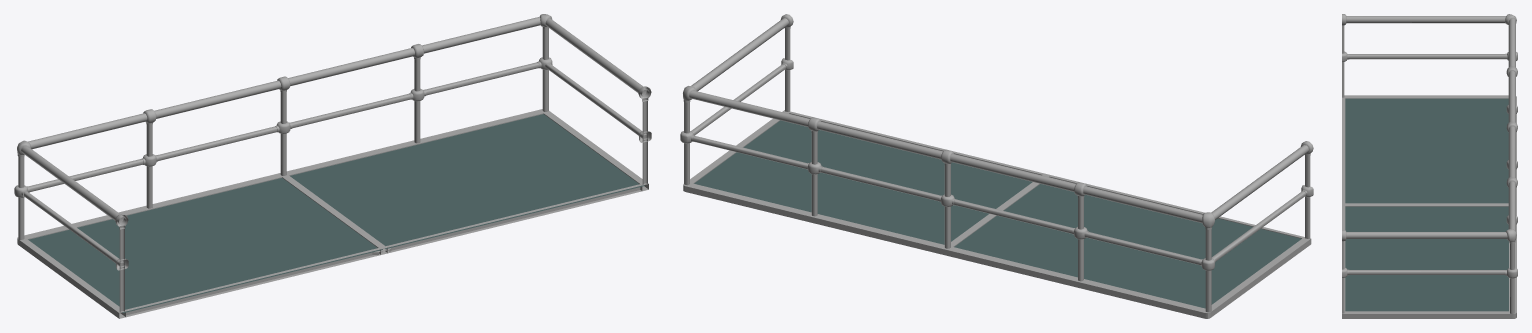
File: L_RailWalk_EndClosed.fbx
The picture shows the model from 3 angles, left to right: view 1: azimuth 30°, elevation 25°; view 2: azimuth 150°, elevation 25°; view 3: azimuth 270°, elevation 25°; orthographic projection. The views are drawn at different scales.
Visible parts, largest first — view 1: Large_RailWalk_EndClosed; view 2: Large_RailWalk_EndClosed; view 3: Large_RailWalk_EndClosed.
Boxes of the visible parts, bbox=[...] form: Large_RailWalk_EndClosed: bbox=[14, 14, 651, 318]; Large_RailWalk_EndClosed: bbox=[680, 14, 1313, 318]; Large_RailWalk_EndClosed: bbox=[1342, 14, 1517, 318].
Bounding box in the file's own units: 4.61 × 0.8457 × 1.55.
